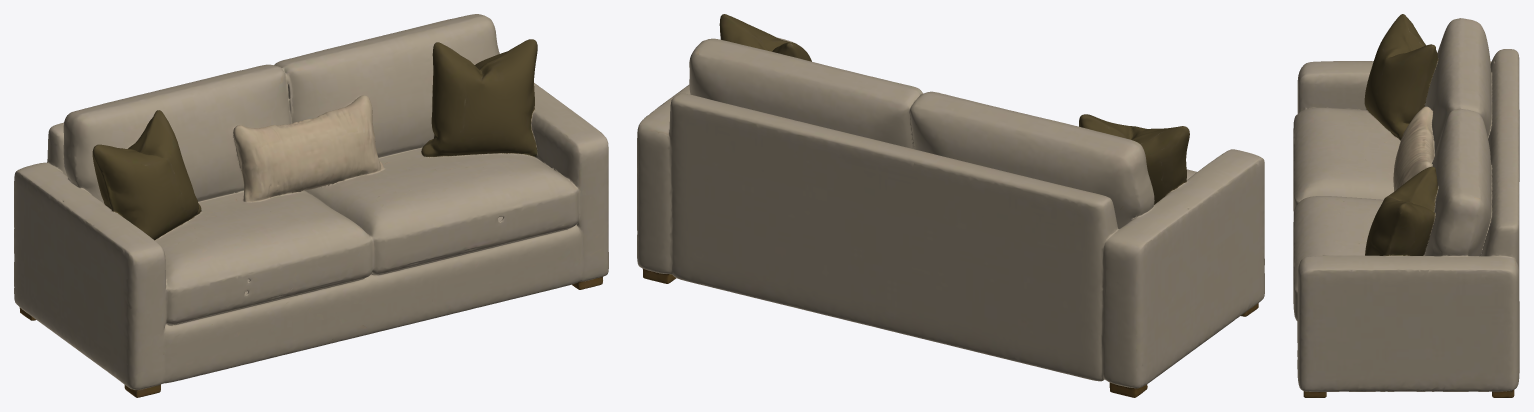
File: Contemporary Fabric Track Arm Sofa [WE-ERp].glb
3 views of the same model, side by side, from view 1: azimuth 30°, elevation 25°; view 2: azimuth 150°, elevation 25°; view 3: azimuth 270°, elevation 25° (orthographic). The views are drawn at different scales.
Visible parts, largest first — view 1: world; view 2: world; view 3: world.
Boxes of the visible parts, bbox=[...] form: world: bbox=[14, 14, 608, 397]; world: bbox=[637, 14, 1264, 397]; world: bbox=[1293, 14, 1519, 397].
Bounding box in the file's own units: 1 × 0.4257 × 0.458.
Materials: 1 (1 with a texture image).
